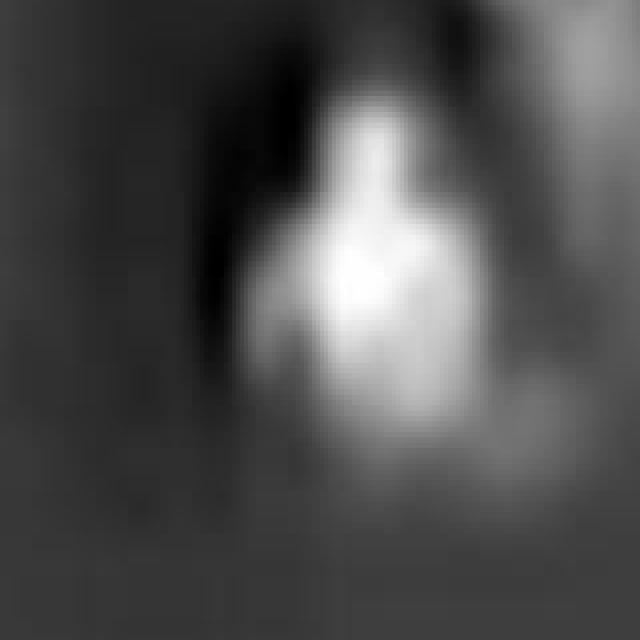person: (252, 65, 496, 549), (485, 1, 640, 374)
